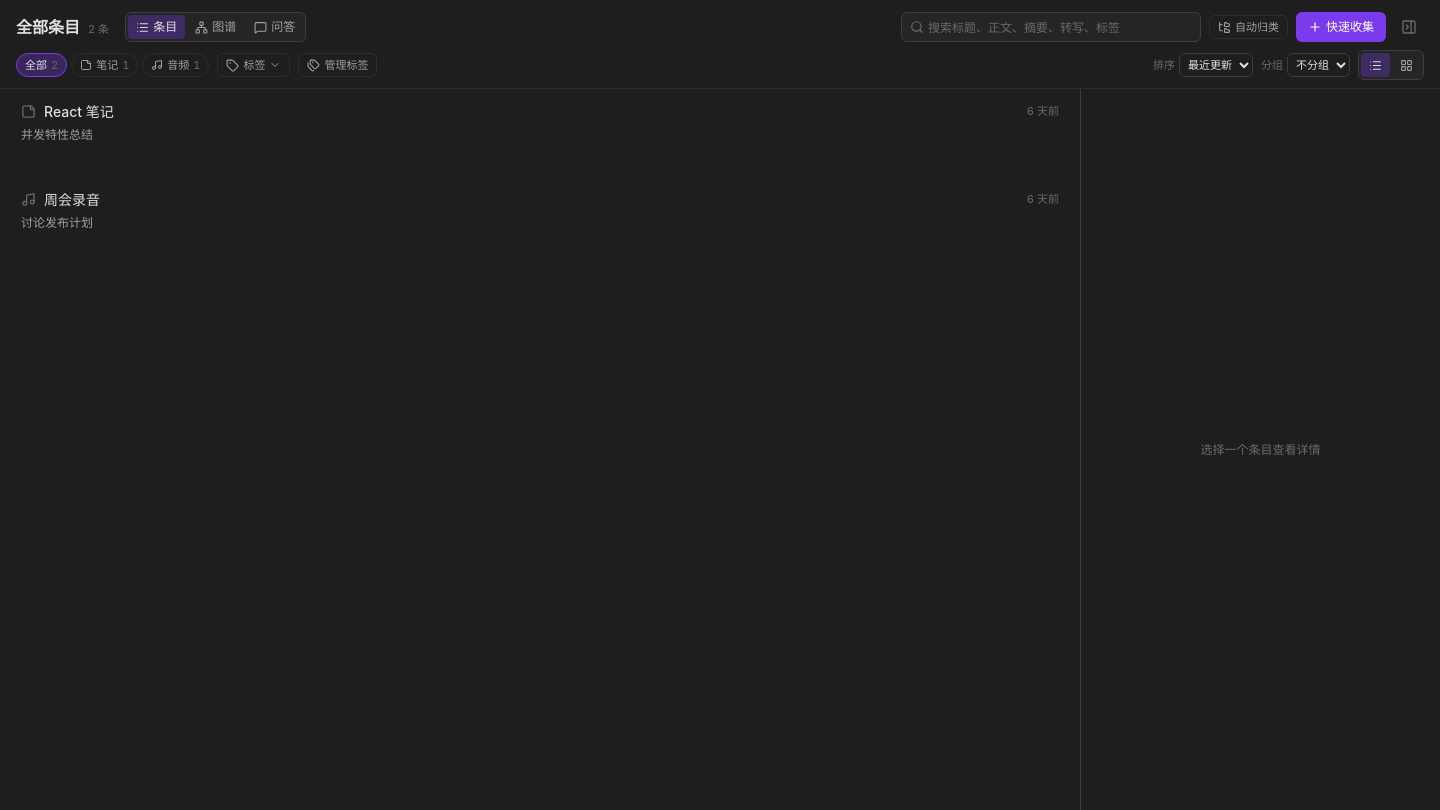
it: KnowledgeWorkspace › 列出条目，搜索无结果时可清除筛选
The image size is (1440, 810).
Expected: the text "React 笔记" is shown, 44,102 -> 114,120
Expected: the text "周会录音" is shown, 44,190 -> 100,208
In the field named "搜索条目": (1060, 27) 928,20 -> 1192,34, type "发布 计划"
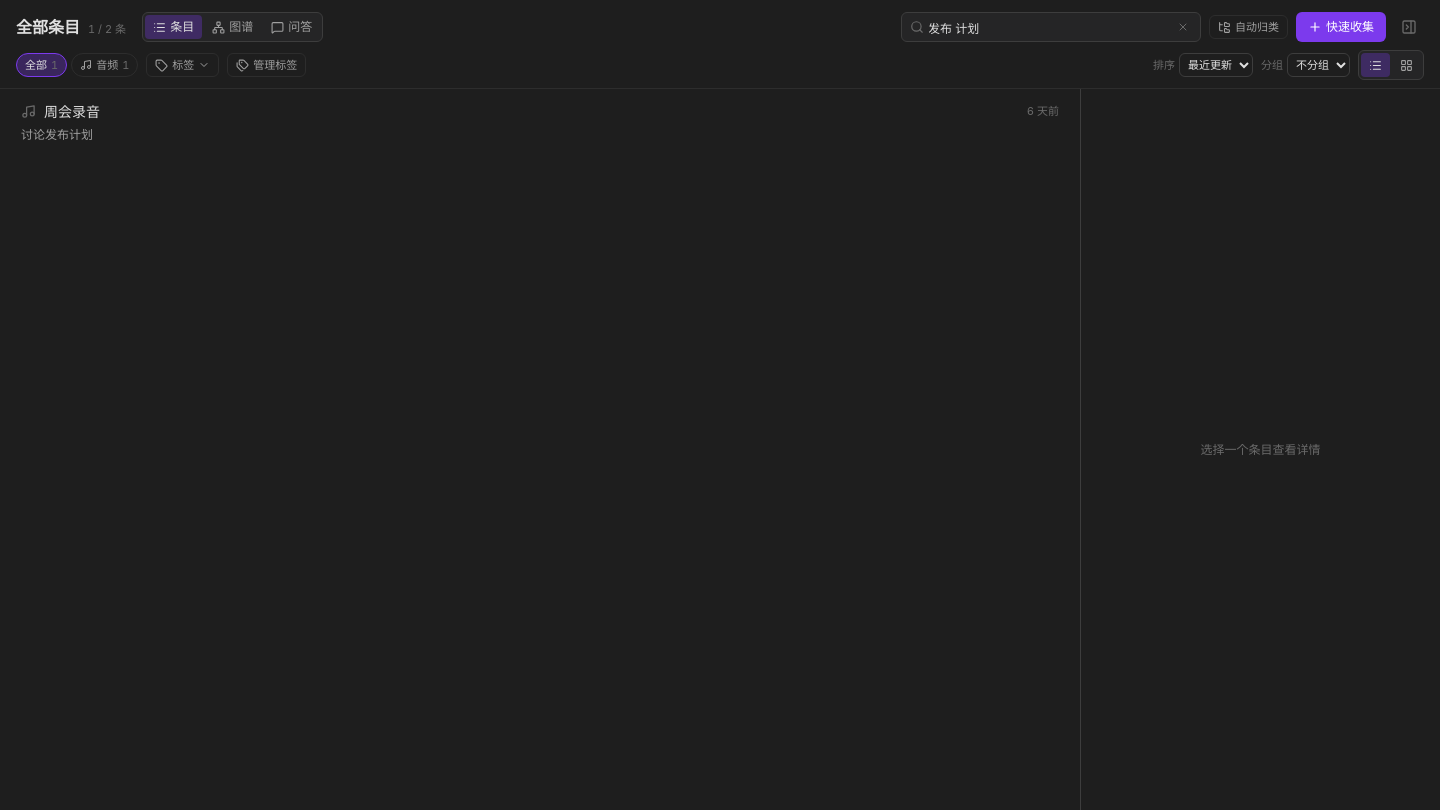
Expected: the text "React 笔记" is gone
Expected: the text "周会录音" is shown, 44,102 -> 100,120
Replace the text in the field named "搜索条目" with "不存在的内容": (1049, 27) 928,20 -> 1170,34
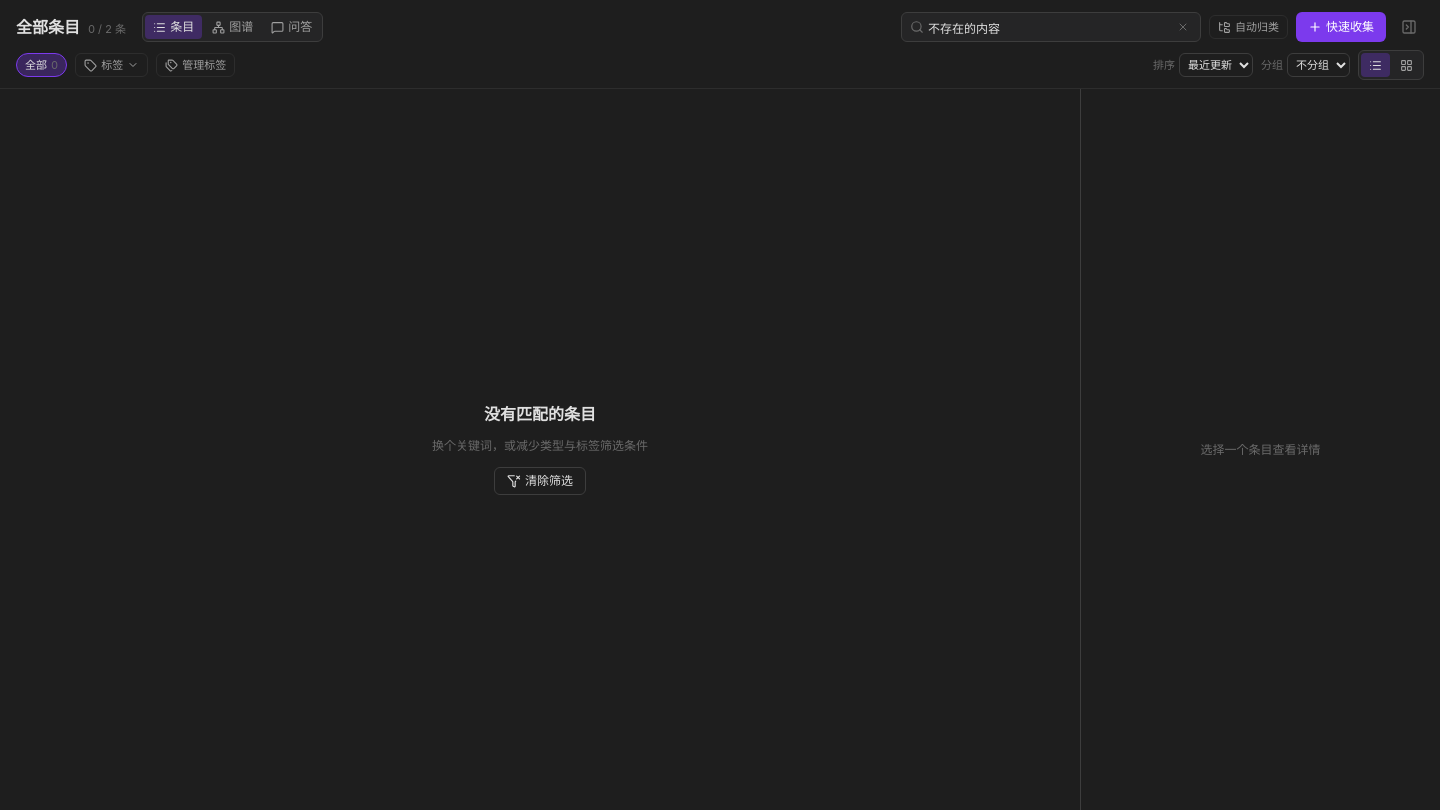
Click the button "清除筛选": (540, 481) 494,467 -> 586,495
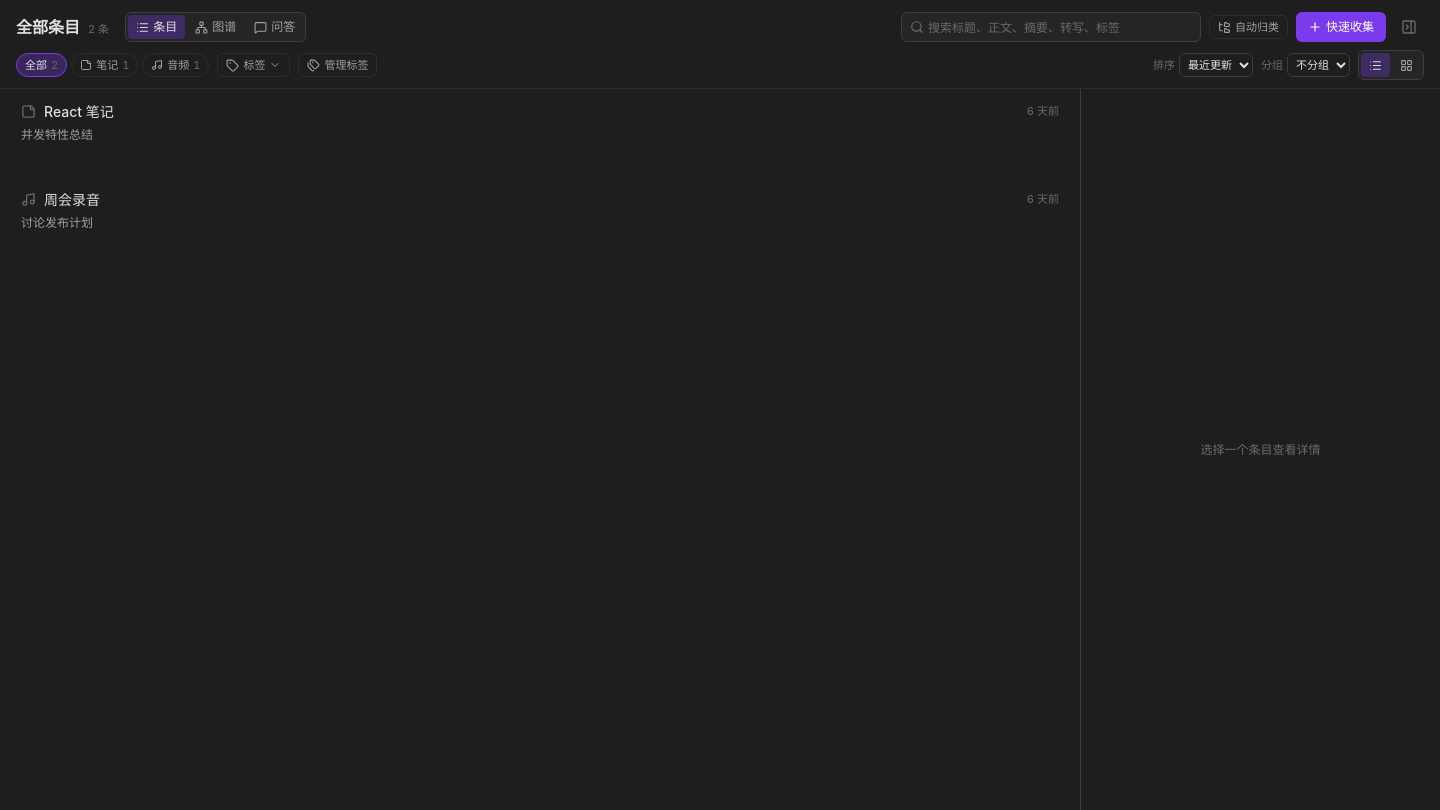
Expected: the text "React 笔记" is shown, 44,102 -> 114,120
